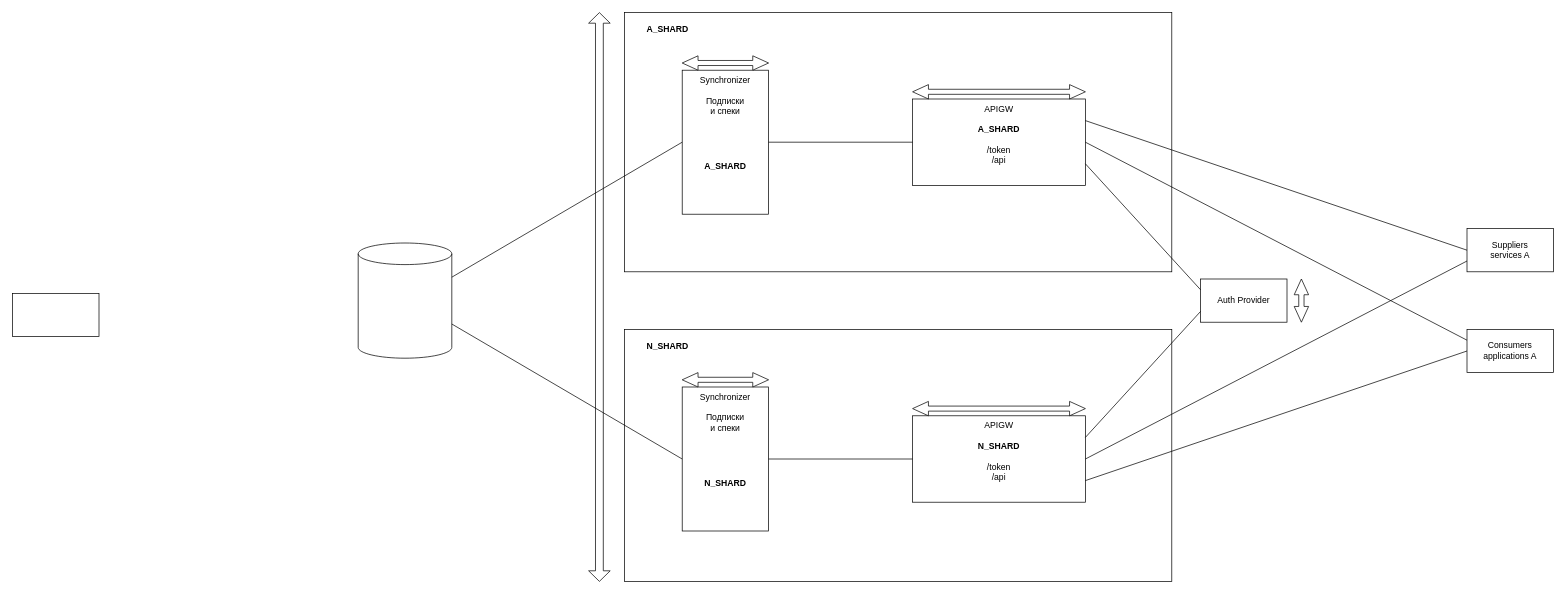
The diagram is 1566 pixels wide and 594 high, and some of its shapes have lost their labels. Here are the shapes that lost their labels. From the top down, the centre of each, then its label:
At (x=55, y=315): "API Core".
At (x=404, y=300): "OpenAPI Subscribtions ApiKeys".
